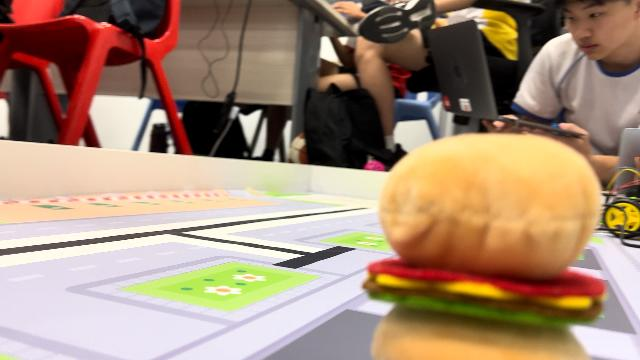burger: (364, 134, 606, 360)
